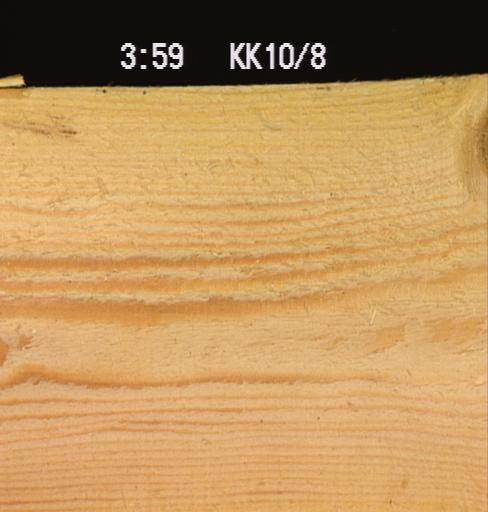sound_knot: (455, 85, 486, 194)
wave: (0, 85, 35, 103)
